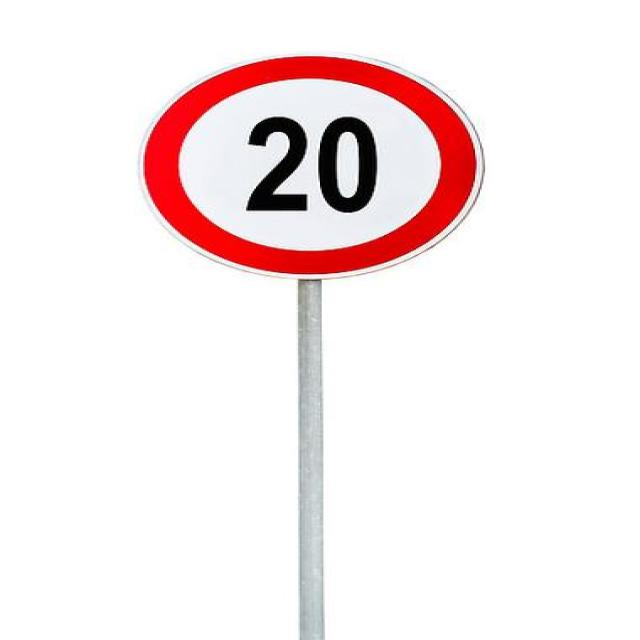speed limit 20: (138, 55, 485, 281)
